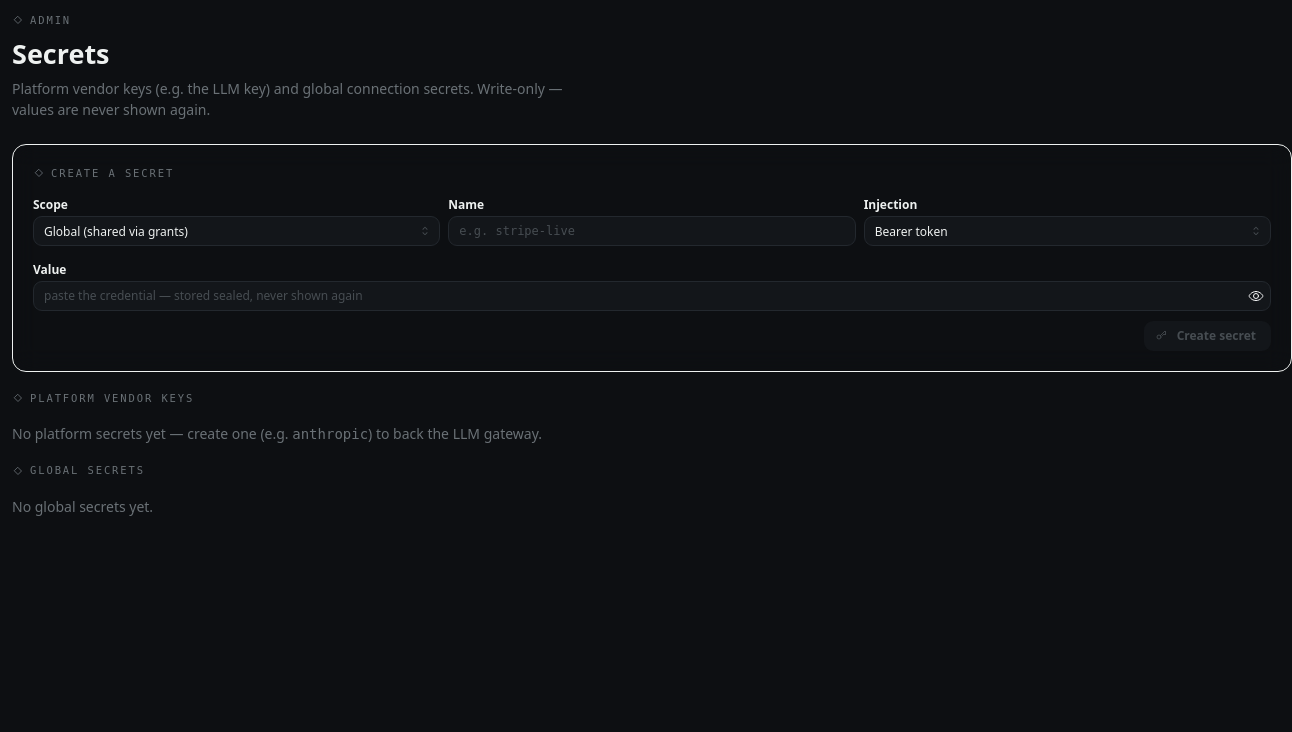
Test case: SecretsPage › collects the credential pair separately for an hmac-timestamp secret
Expected: the button "Create secret" is shown, [1144, 321, 1271, 351]
Click the dropdown labelled "Injection" at (1067, 231), box [864, 216, 1271, 246]
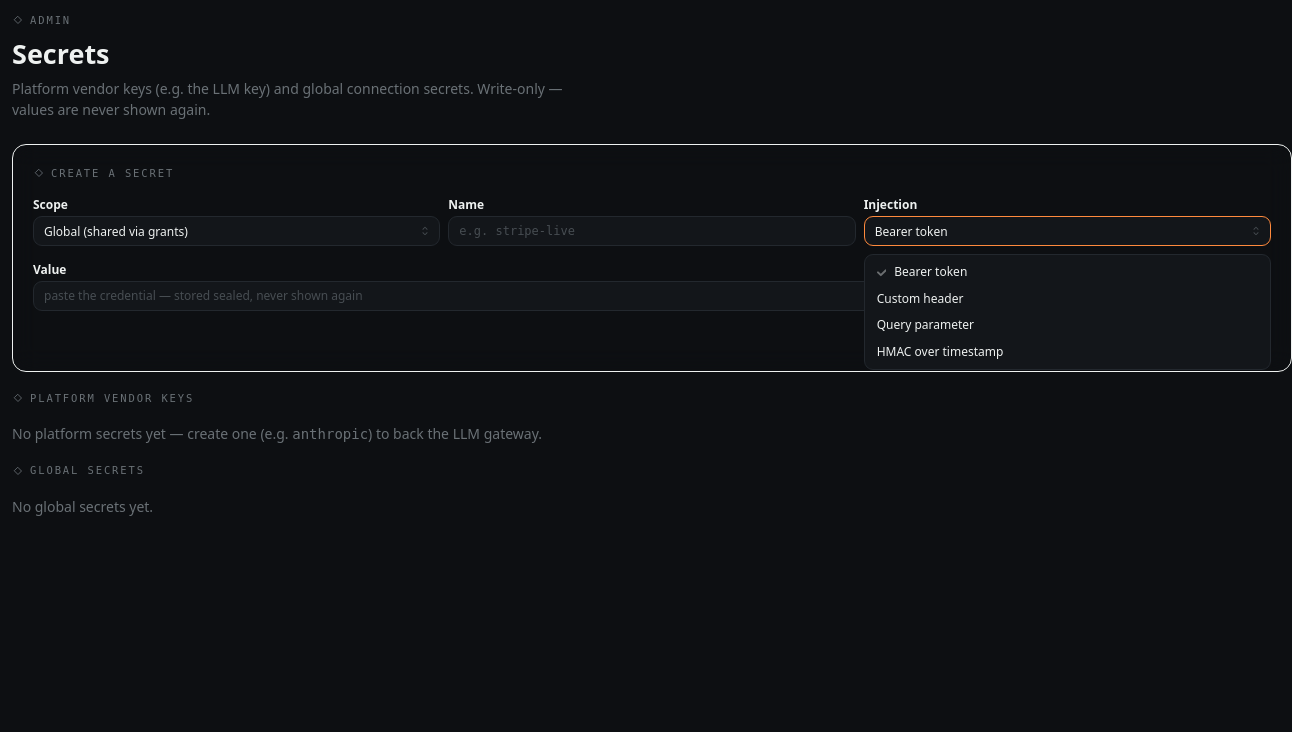
Click the option "HMAC over timestamp" at (940, 351), box [877, 343, 1003, 360]
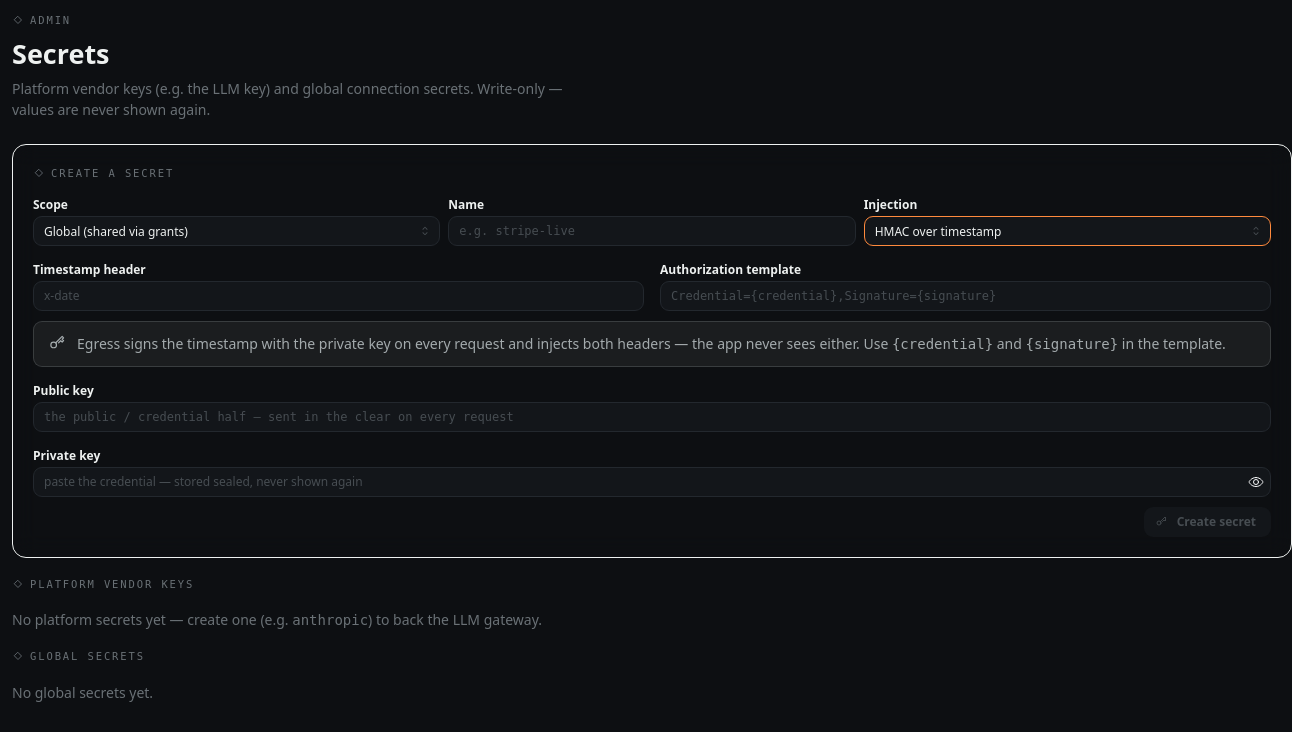
Expected: the field labelled "Public key" is shown, [33, 402, 1271, 432]
Expected: the field labelled "Timestamp header" is shown, [33, 281, 644, 311]
Expected: the field labelled "Authorization template" is shown, [660, 281, 1271, 311]
